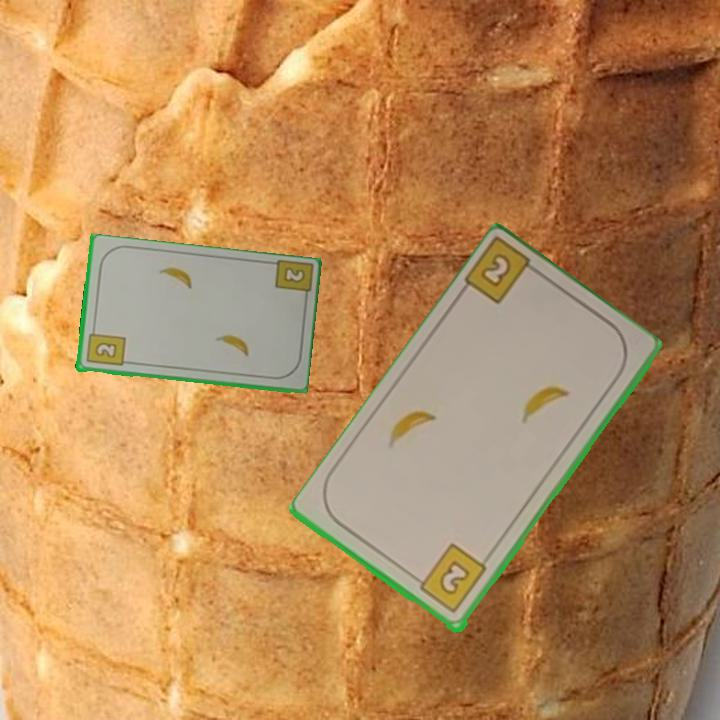2b: (410, 540, 490, 617), (461, 237, 546, 308), (271, 258, 313, 306), (83, 324, 127, 369)
